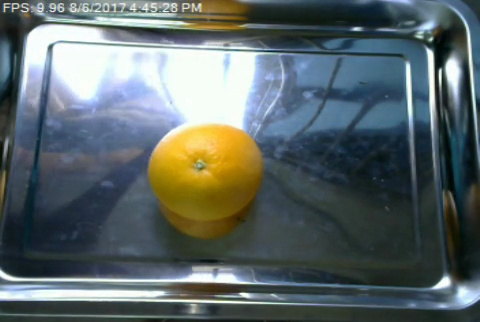Orange: (146, 123, 262, 220)
